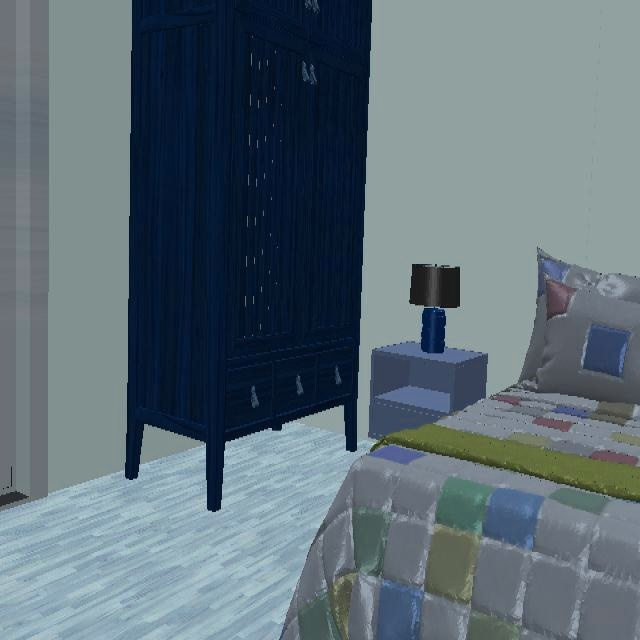bed: (278, 384, 640, 640)
lamp: (409, 264, 462, 355)
nighttable: (368, 341, 488, 440)
pillow: (519, 251, 640, 383), (523, 280, 640, 407)
wardrobe: (122, 0, 372, 515)
